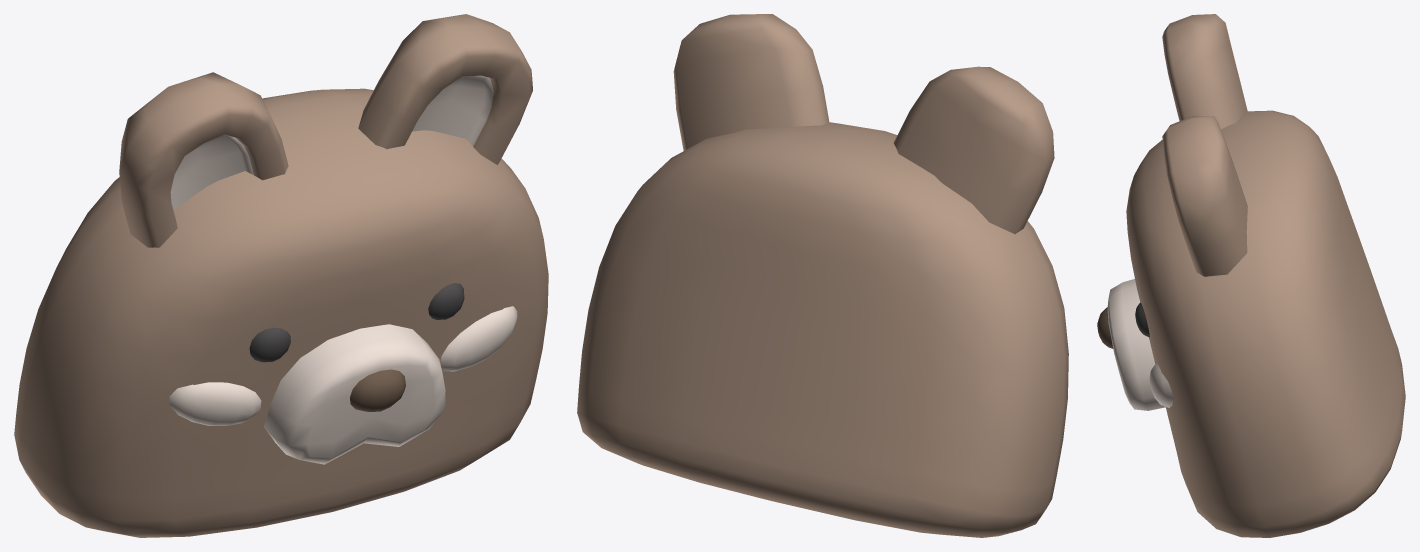
Rendered from Toy_Bear_2.glb.
3 renders of one model, left to right at view 1: azimuth 30°, elevation 25°; view 2: azimuth 150°, elevation 25°; view 3: azimuth 270°, elevation 25°, orthographic. The views are drawn at different scales.
Visible parts, largest first — view 1: Toy_Bear_2; view 2: Toy_Bear_2; view 3: Toy_Bear_2.
Part boxes in pixels (bbox=[...]): Toy_Bear_2: bbox=[14, 14, 548, 537]; Toy_Bear_2: bbox=[577, 14, 1068, 537]; Toy_Bear_2: bbox=[1097, 14, 1405, 537].
Bounding box in the file's own units: 0.5035 × 0.4618 × 0.3268.
Materials: 1 (1 with a texture image).
